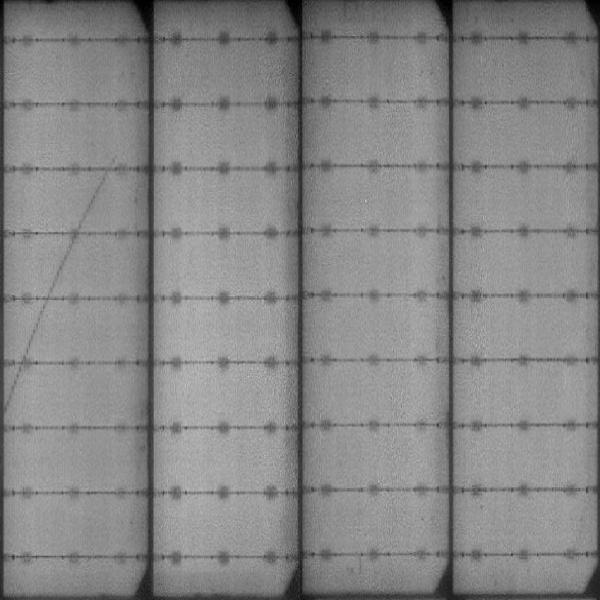scratch: (50, 239, 79, 290), (80, 175, 108, 225), (25, 304, 50, 358), (8, 368, 26, 404)
